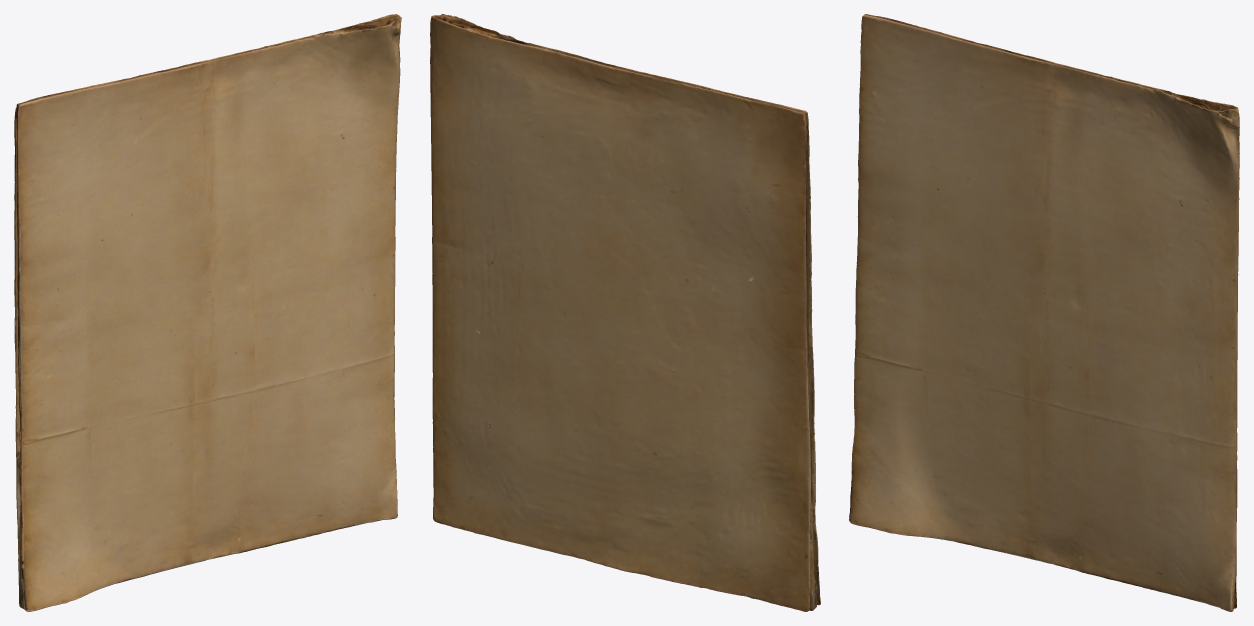
File: Vintage_Parchment_0918102807_texture.fbx
3 renders of one model, left to right at view 1: azimuth 30°, elevation 25°; view 2: azimuth 150°, elevation 25°; view 3: azimuth 330°, elevation 25°, orthographic.
Parts seen in each view (by area): view 1: Mesh_0; view 2: Mesh_0; view 3: Mesh_0.
Part boxes in pixels (bbox=[...]): Mesh_0: bbox=[14, 14, 401, 611]; Mesh_0: bbox=[430, 14, 820, 611]; Mesh_0: bbox=[849, 14, 1239, 611].
Bounding box in the file's own units: 152 × 190 × 10.35.
1 material, 1 textured.
